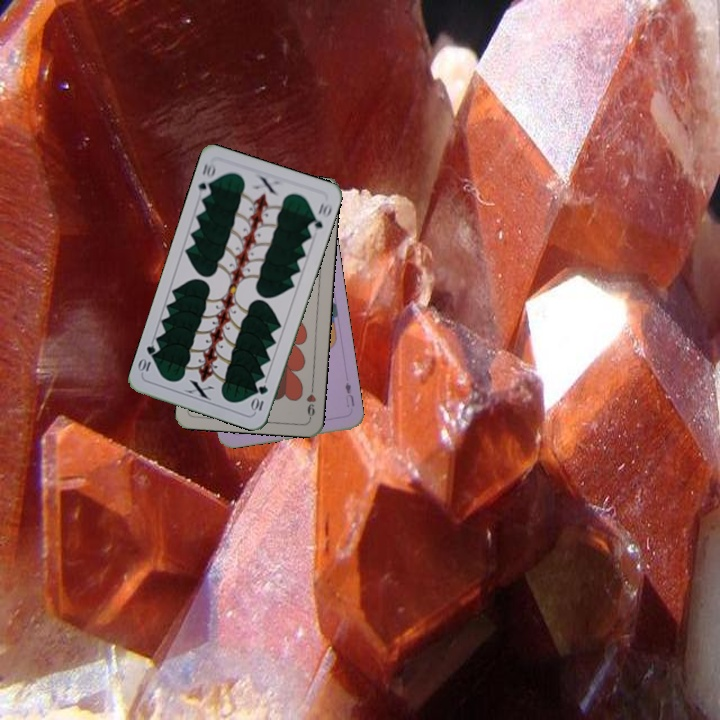EU: (341, 378, 357, 410)
G10: (194, 159, 219, 200), (248, 381, 270, 413)
H9: (303, 380, 318, 421)
